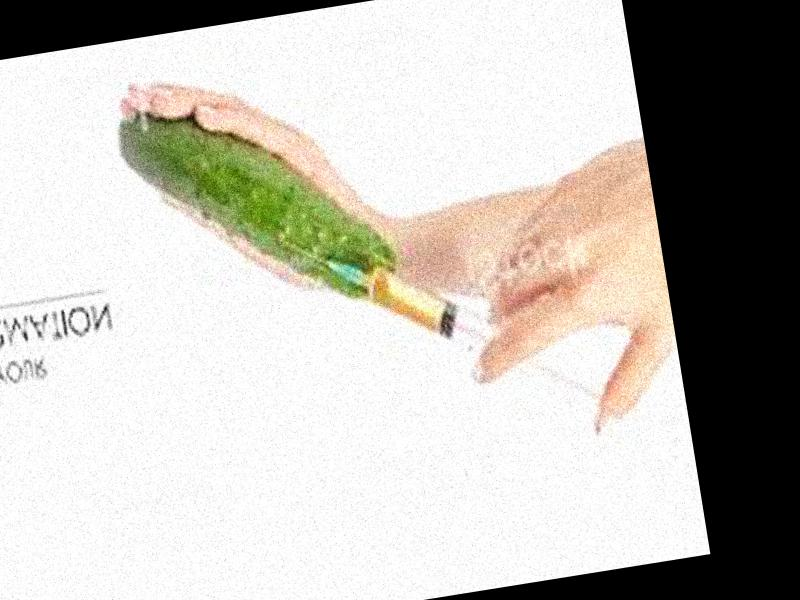Cucumber: (117, 80, 400, 338)
